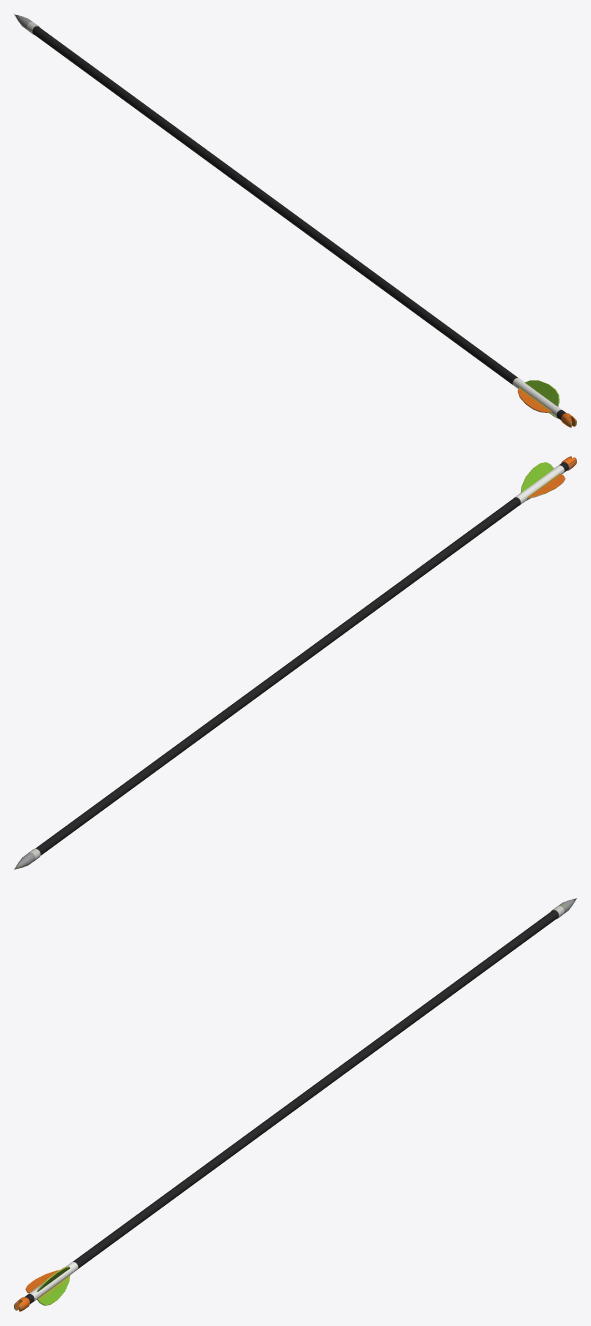
Rendered from flecha_carbono_campo.glb.
The picture shows the model from 3 angles, top to bottom: view 1: azimuth 30°, elevation 25°; view 2: azimuth 150°, elevation 25°; view 3: azimuth 330°, elevation 25°; orthographic projection.
Visible parts, largest first — view 1: flecha_carbono_campo_flecha; view 2: flecha_carbono_campo_flecha; view 3: flecha_carbono_campo_flecha.
Boxes of the visible parts, x1,y1,x2,y2 form: flecha_carbono_campo_flecha: [14, 14, 576, 427]; flecha_carbono_campo_flecha: [14, 456, 576, 869]; flecha_carbono_campo_flecha: [14, 898, 576, 1311].
Bounding box in the file's own units: 0.0183 × 0.0211 × 0.756.
1 material, 1 textured.
